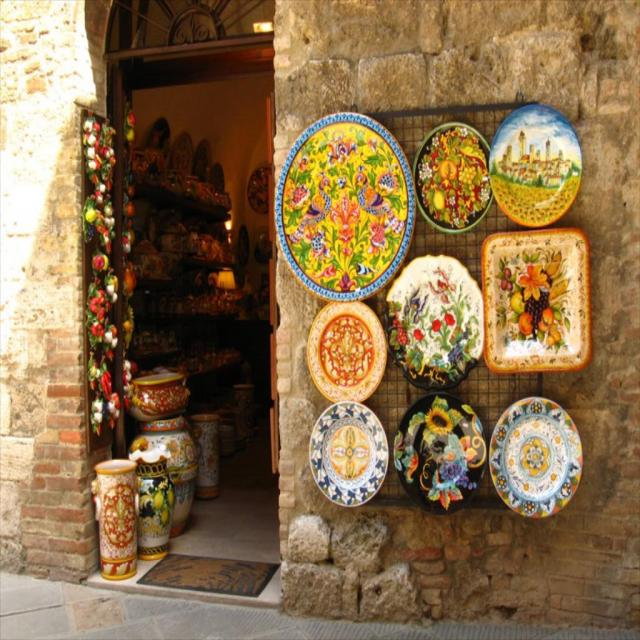non-organic waste: (278, 98, 413, 312), (487, 385, 596, 540), (487, 103, 582, 237)
